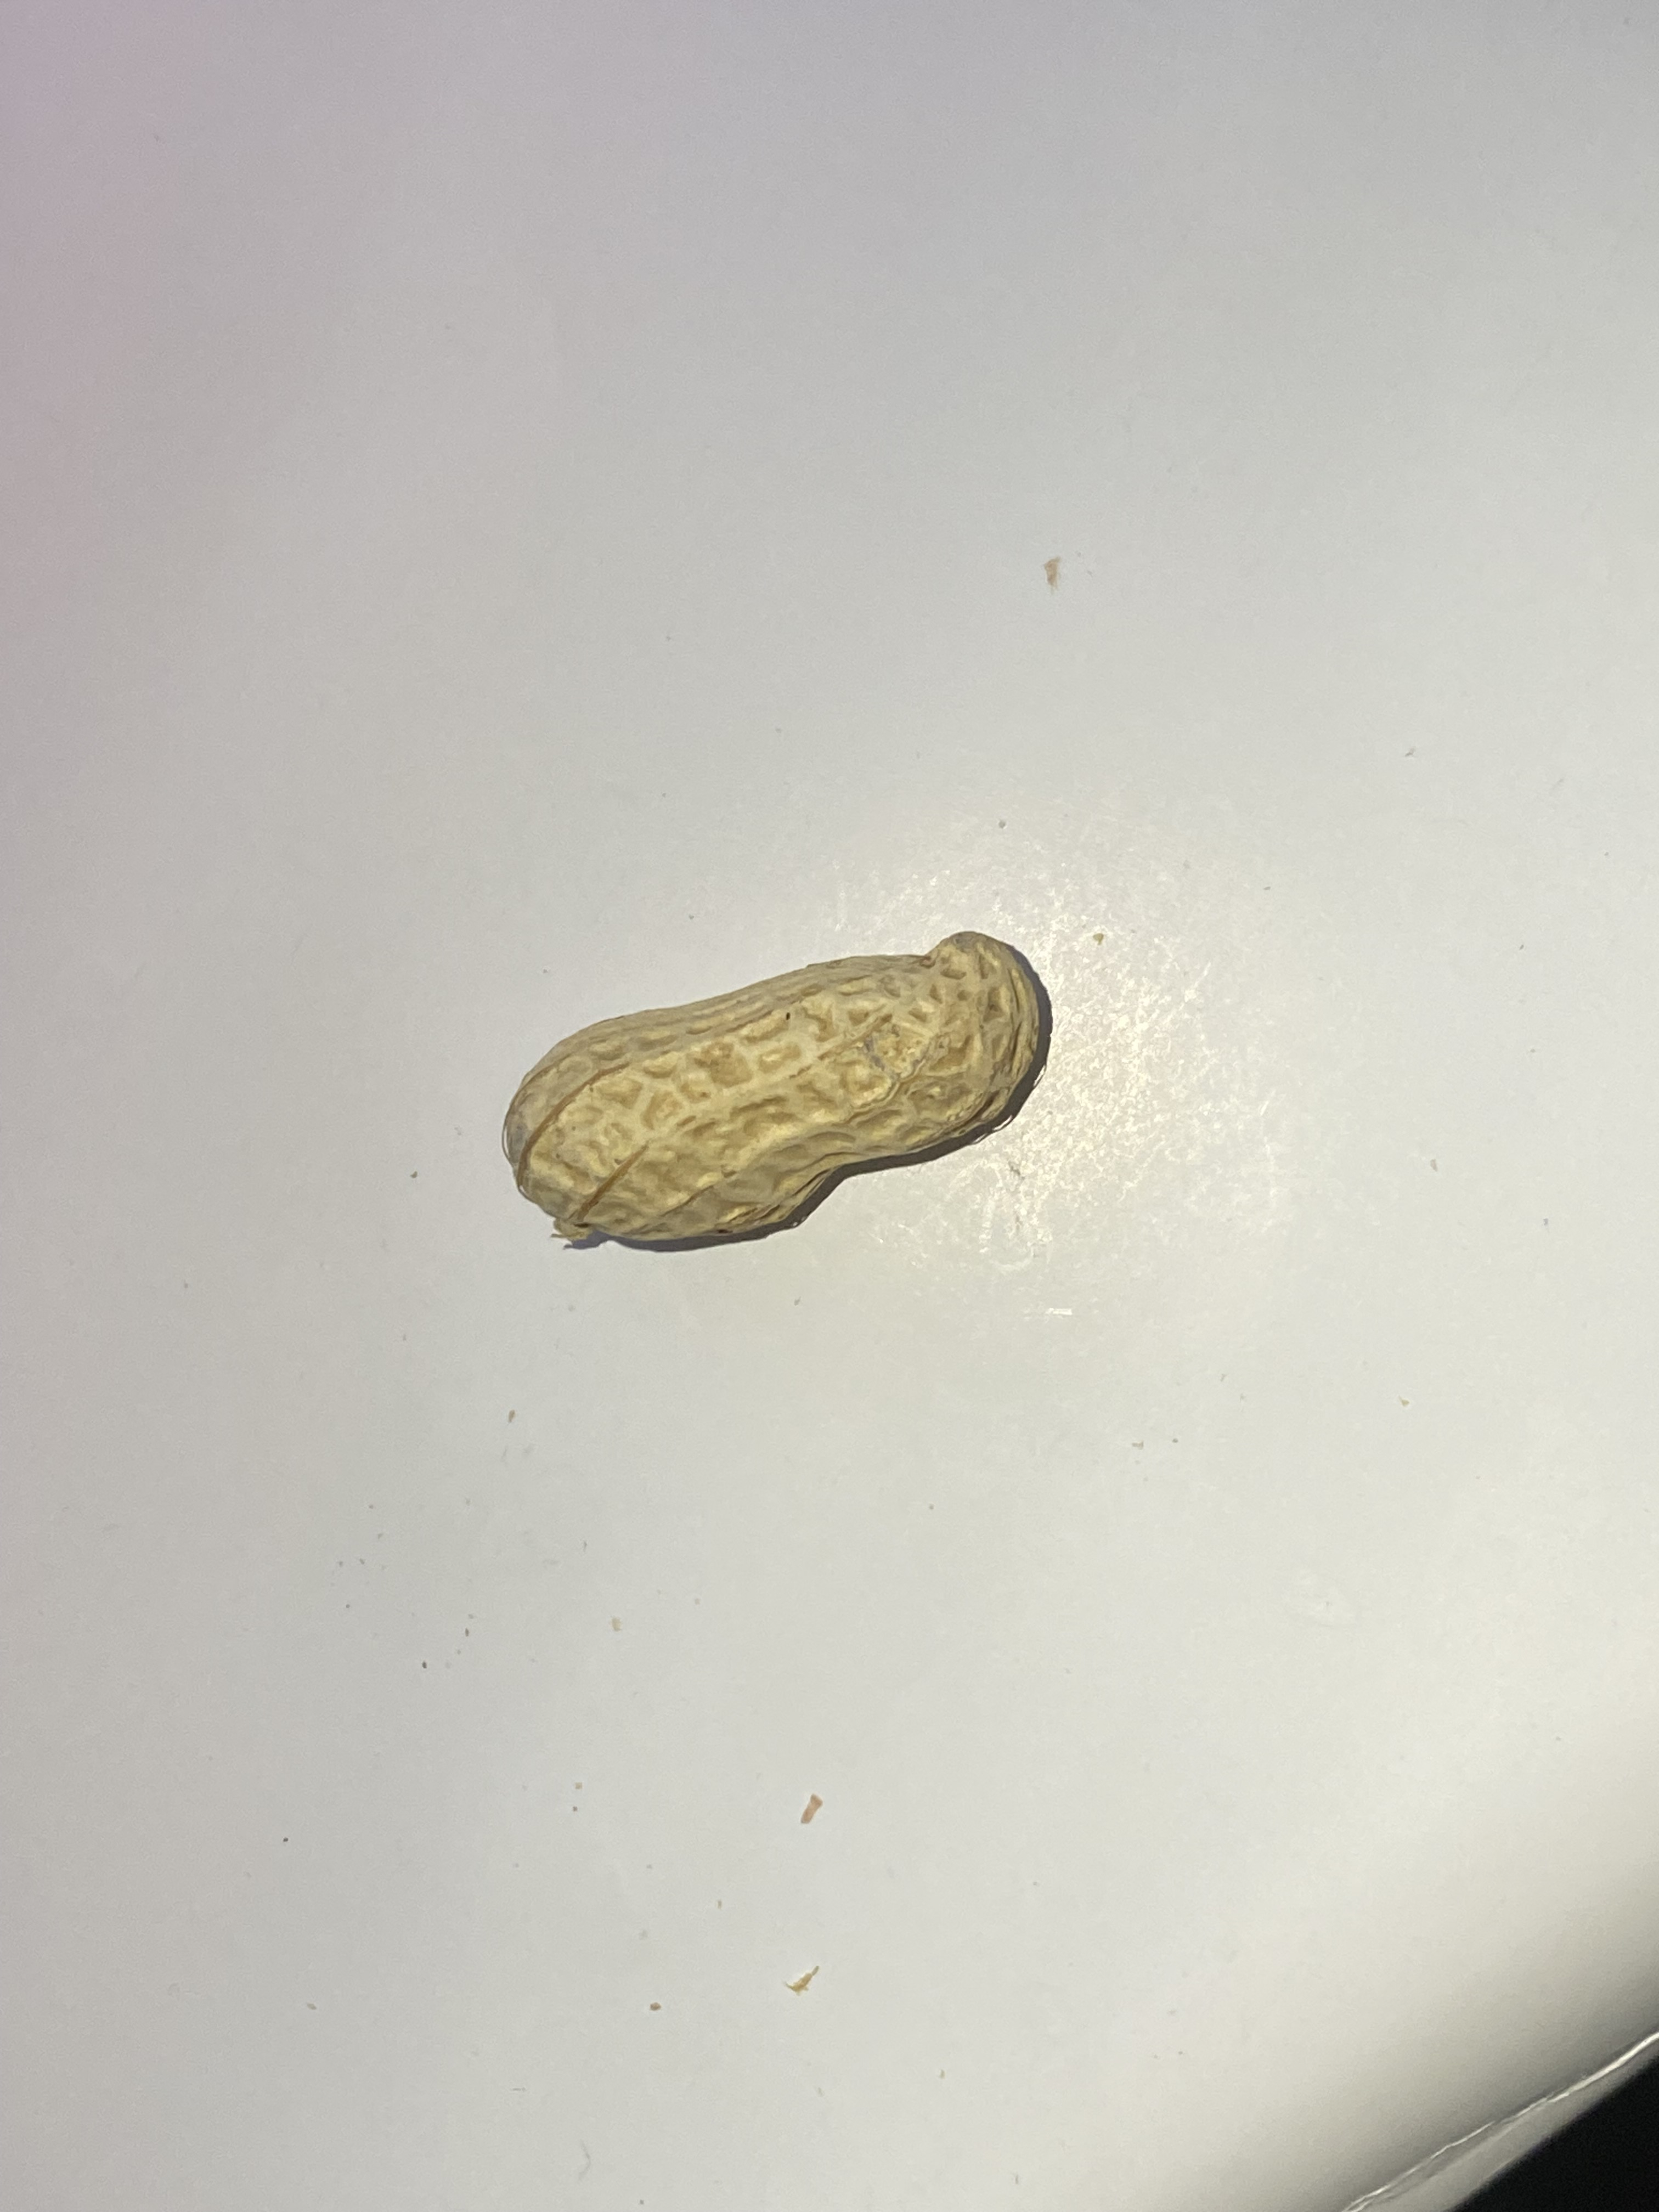kacang2: (477, 925, 1065, 1251)
